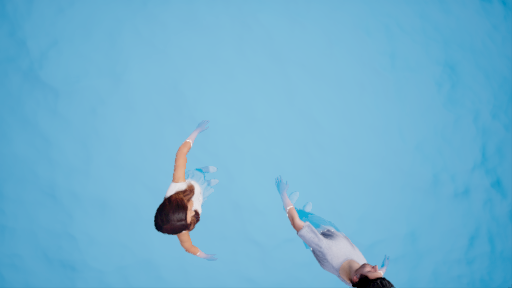person: (131, 115, 247, 255), (268, 180, 391, 288)
